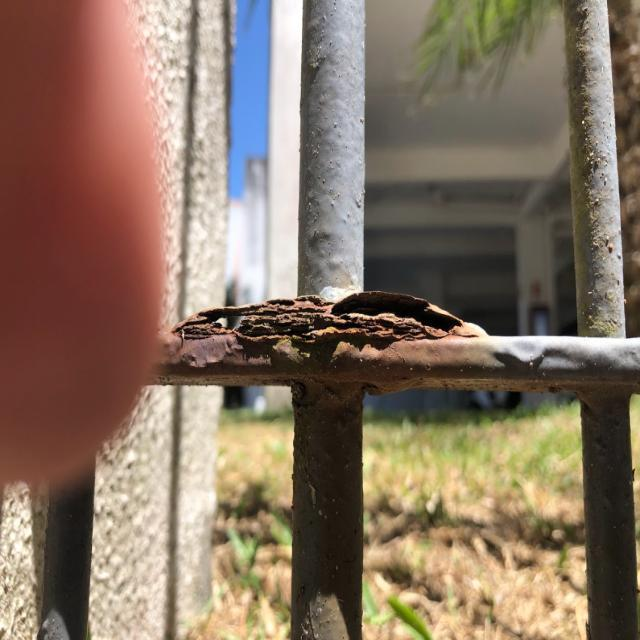Corrosion: (150, 292, 492, 403)
